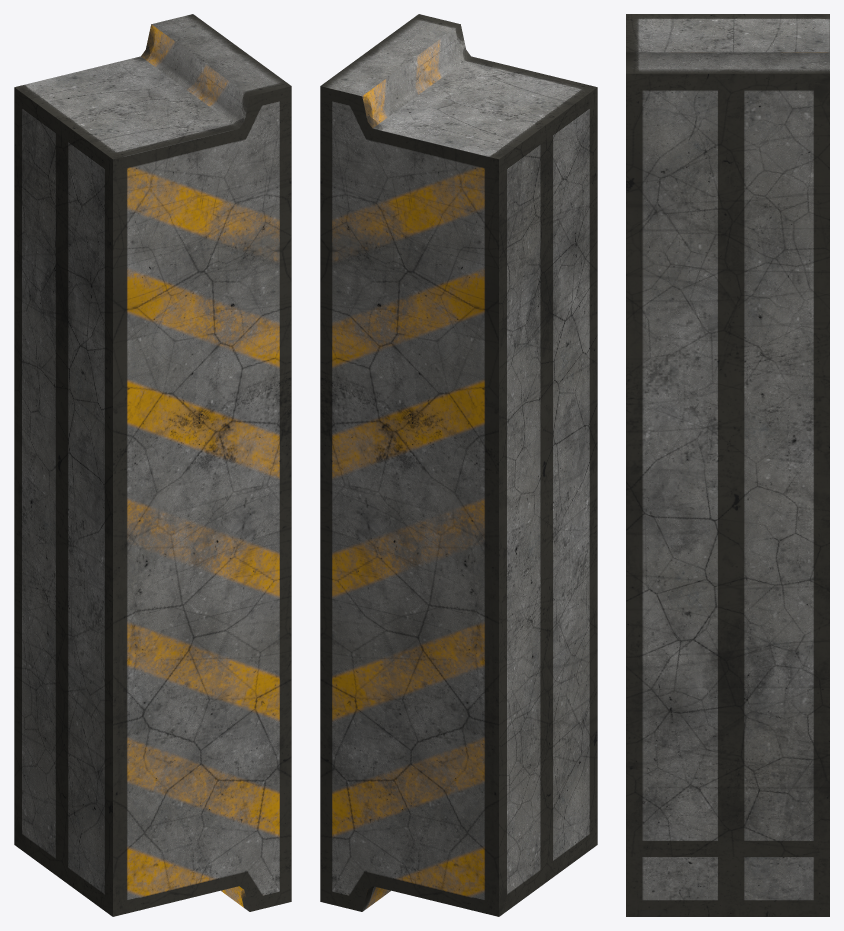
Rendered from Bass001_Wall.FBX.
3 renders of one model, left to right at view 1: azimuth 30°, elevation 25°; view 2: azimuth 150°, elevation 25°; view 3: azimuth 270°, elevation 25°, orthographic. The views are drawn at different scales.
Parts seen in each view (by area): view 1: Bass001_Wall001; view 2: Bass001_Wall001; view 3: Bass001_Wall001.
Part boxes in pixels (bbox=[...]): Bass001_Wall001: bbox=[14, 14, 291, 916]; Bass001_Wall001: bbox=[320, 14, 597, 916]; Bass001_Wall001: bbox=[626, 14, 829, 916].
Bounding box in the file's own units: 566 × 2467 × 540.
